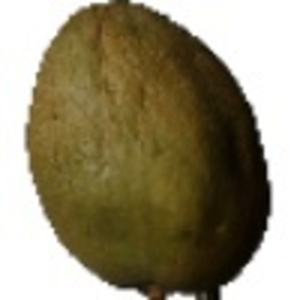mamão: (19, 4, 277, 293)
